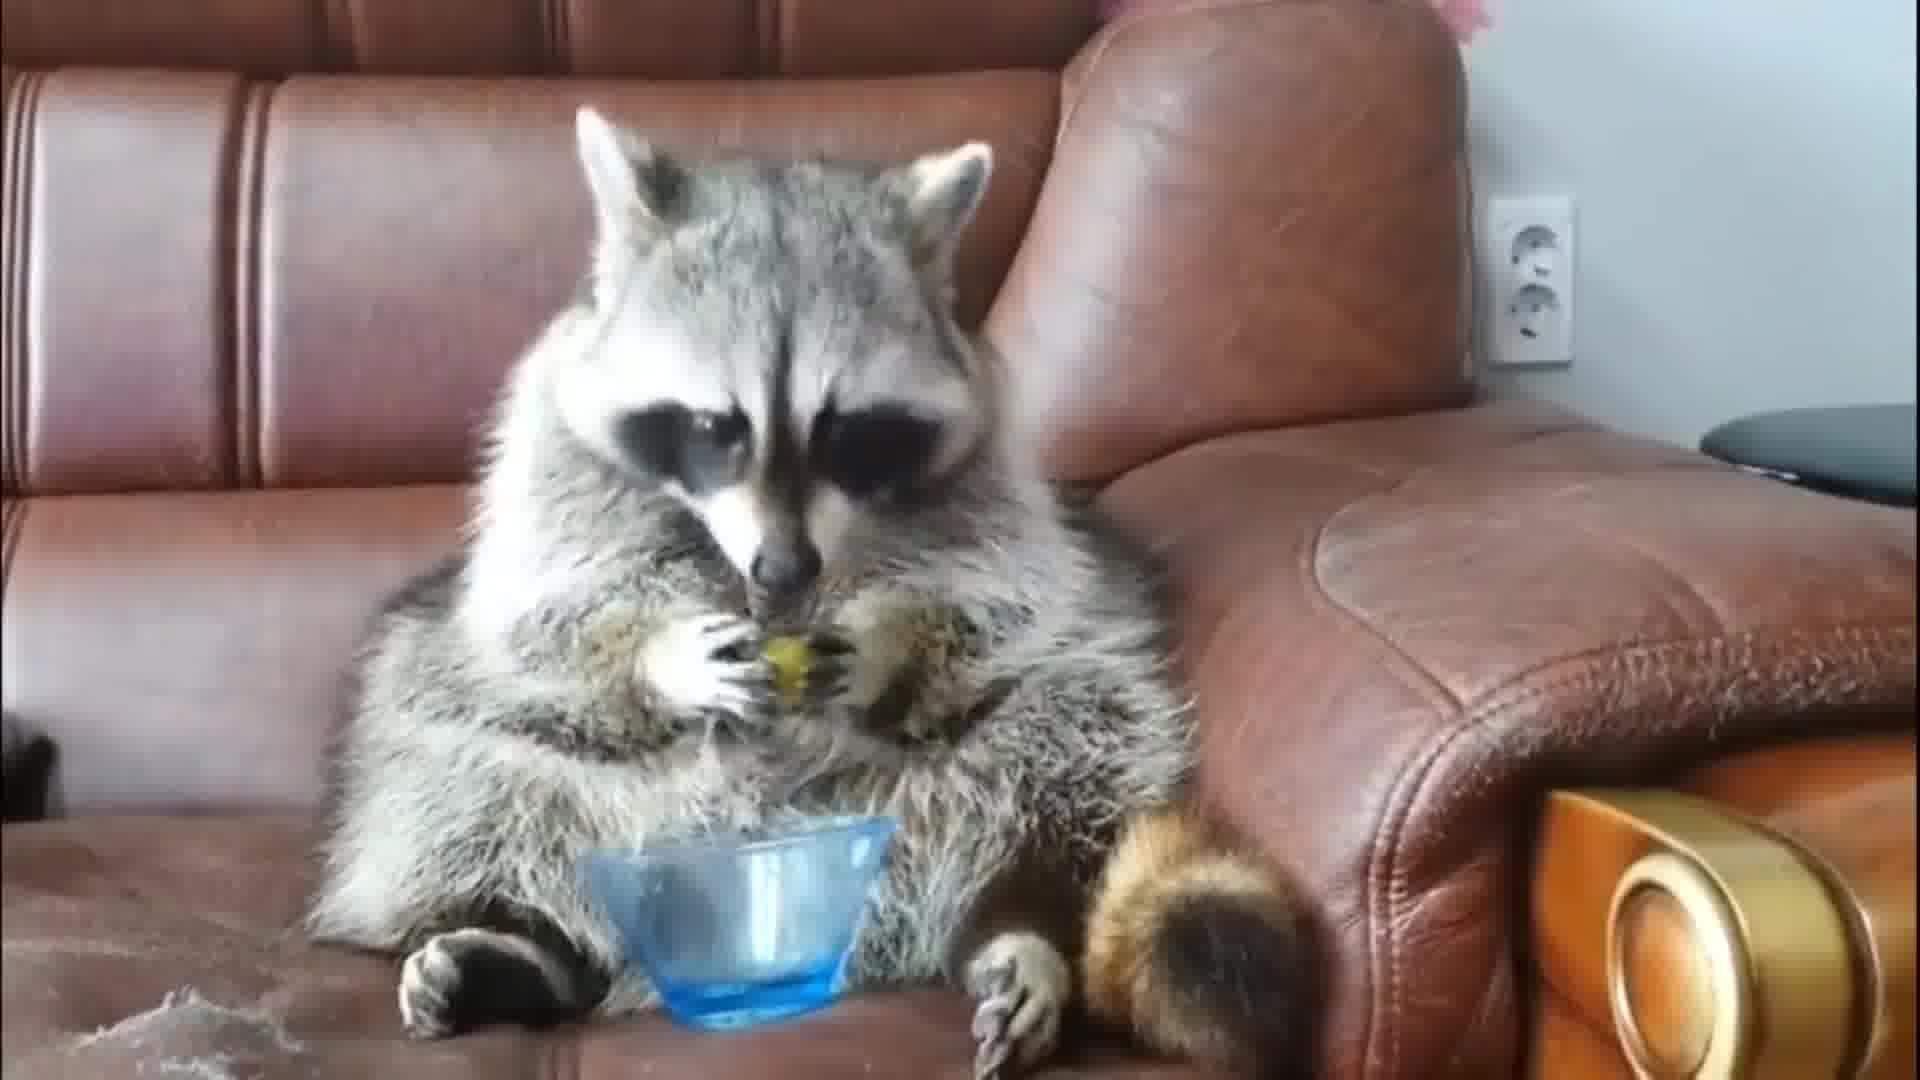raccoon: (287, 107, 1325, 1080)
